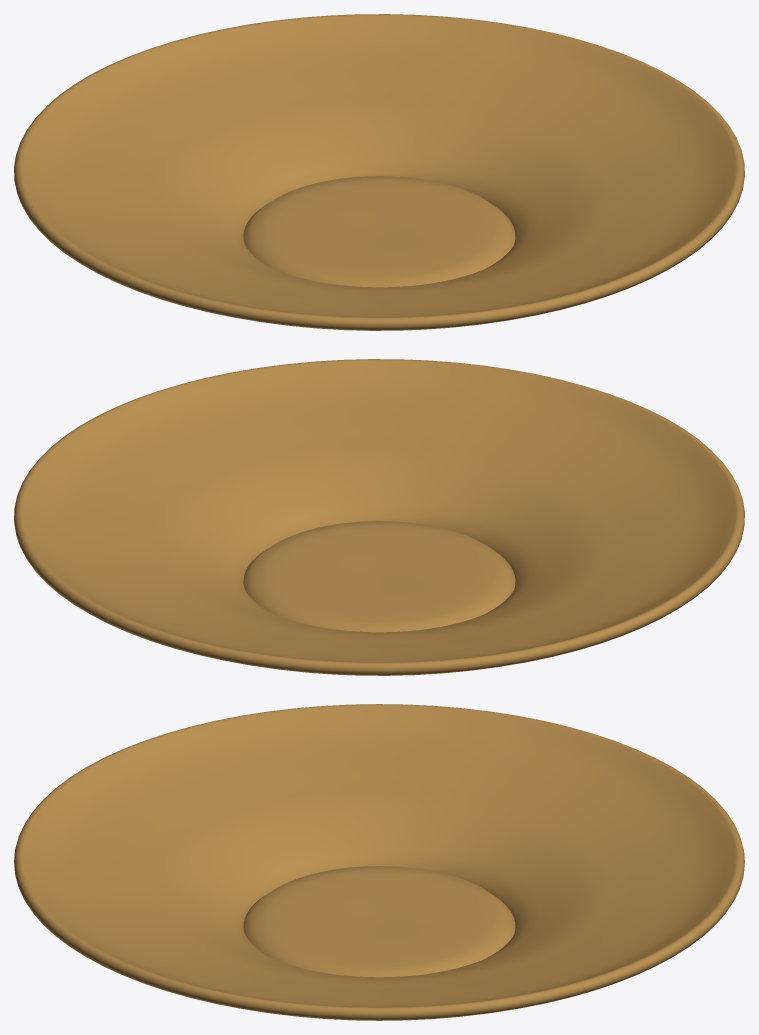
The model's file is reflejo.glb.
3 renders of one model, top to bottom at view 1: azimuth 30°, elevation 25°; view 2: azimuth 150°, elevation 25°; view 3: azimuth 270°, elevation 25°, orthographic.
Parts seen in each view (by area): view 1: reflejo; view 2: reflejo; view 3: reflejo.
Part boxes in pixels (<box>): reflejo: <box>14,14,744,330</box>; reflejo: <box>14,359,744,675</box>; reflejo: <box>14,704,744,1020</box>.
Bounding box in the file's own units: 0.2827 × 0.0352 × 0.2827.
